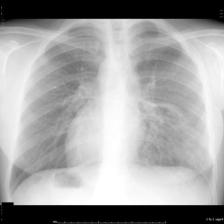tuberculosis: (4, 18, 213, 204)
